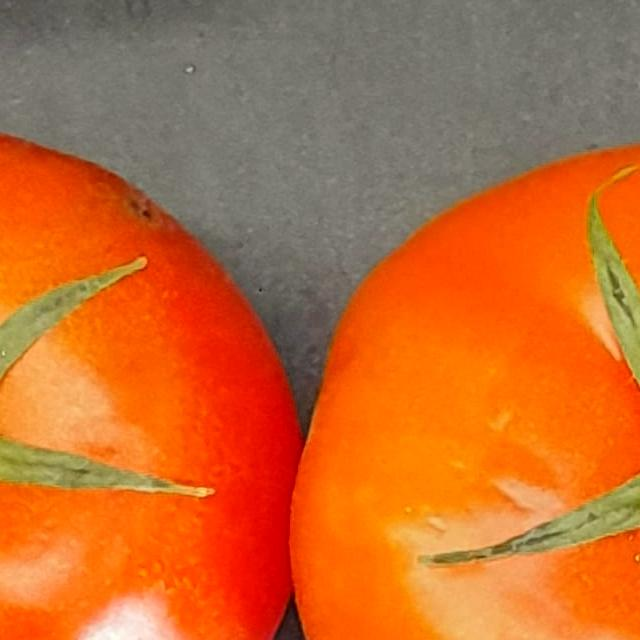tomato: (266, 113, 640, 640), (0, 103, 310, 640)
